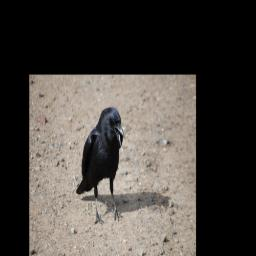Crow: (76, 107, 125, 224)
